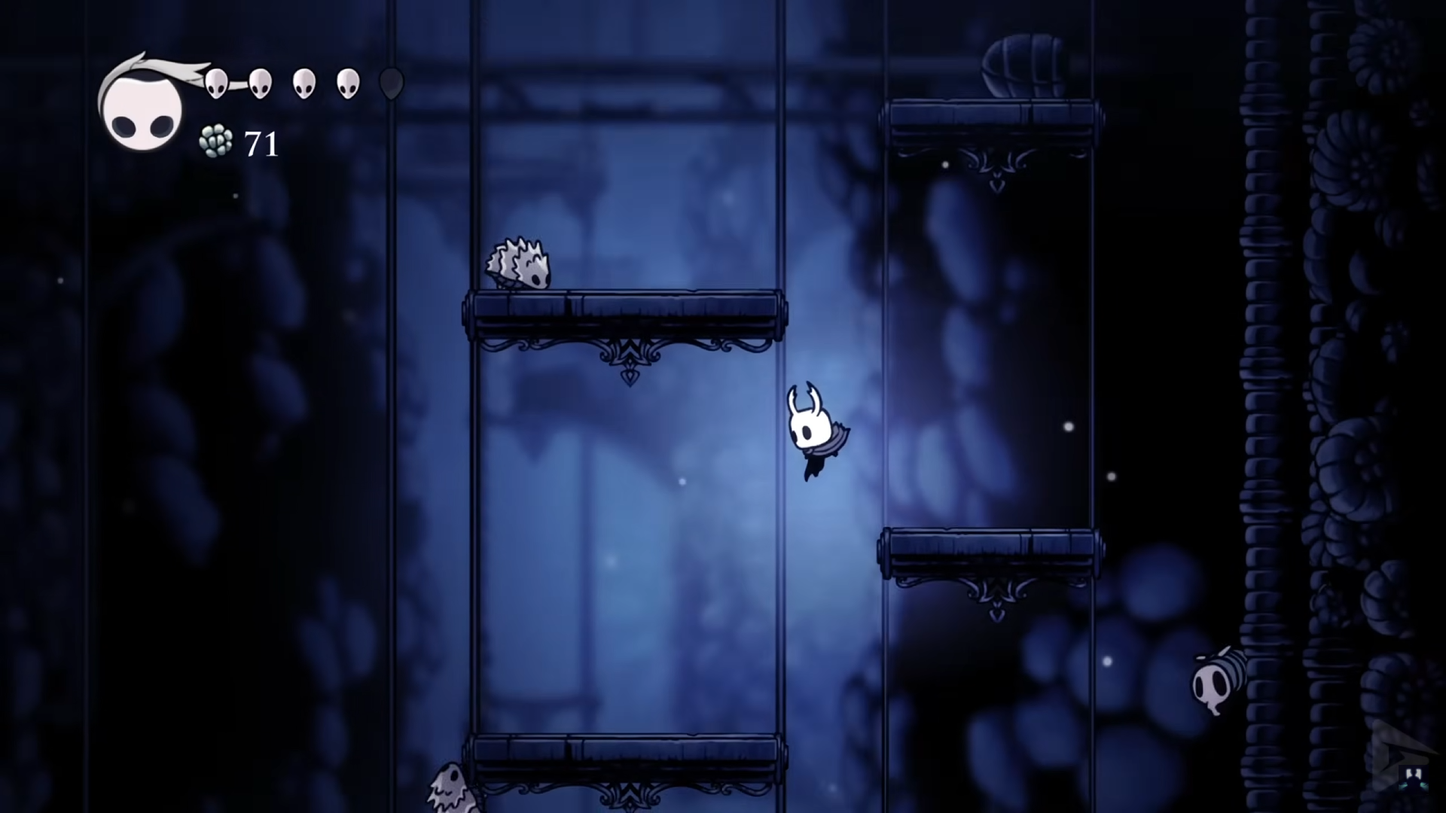HK: (781, 379, 852, 482)
